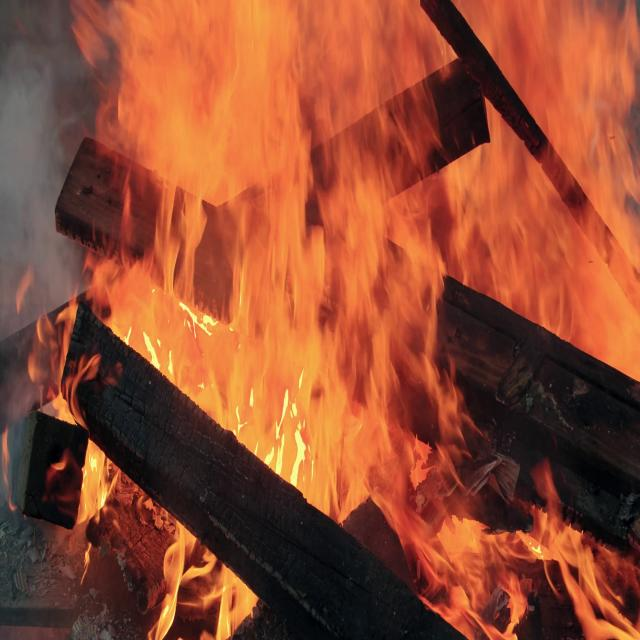Fire: (56, 0, 640, 640), (471, 0, 640, 383)
